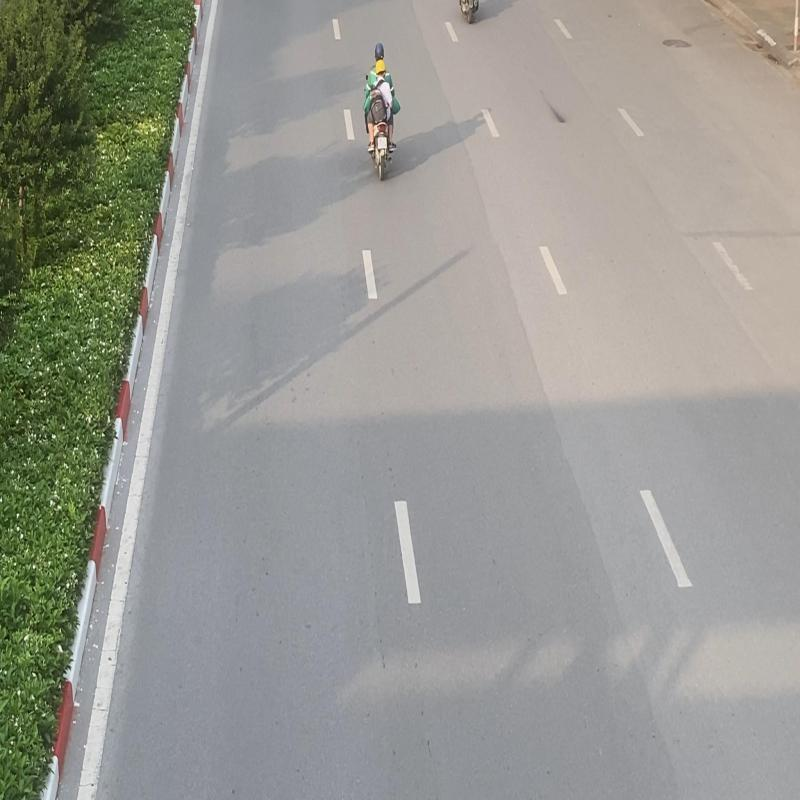helmet: (374, 42, 384, 62), (376, 60, 386, 78)
licenseplate: (377, 136, 387, 150)
motorcyclist: (362, 40, 401, 182)
